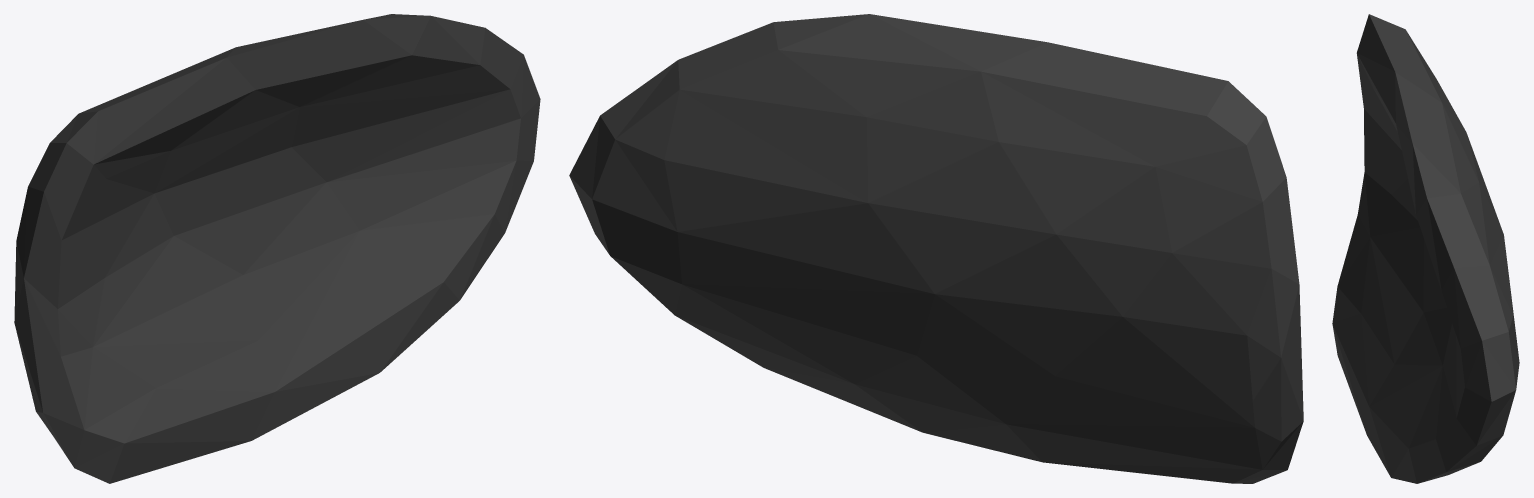
The model's file is Pelvis_ventral_pelvic_tubercle.glb.
3 views of the same model, side by side, from view 1: azimuth 30°, elevation 25°; view 2: azimuth 150°, elevation 25°; view 3: azimuth 270°, elevation 25° (orthographic). The views are drawn at different scales.
Parts seen in each view (by area): view 1: Pelvis_ventral_pelvic_tubercle; view 2: Pelvis_ventral_pelvic_tubercle; view 3: Pelvis_ventral_pelvic_tubercle.
Boxes of the visible parts, x1,y1,x2,y2 form: Pelvis_ventral_pelvic_tubercle: [14, 14, 540, 483]; Pelvis_ventral_pelvic_tubercle: [569, 14, 1303, 483]; Pelvis_ventral_pelvic_tubercle: [1332, 14, 1519, 483].
Bounding box in the file's own units: 0.6463 × 0.4032 × 0.1906.
1 material, 1 textured.
